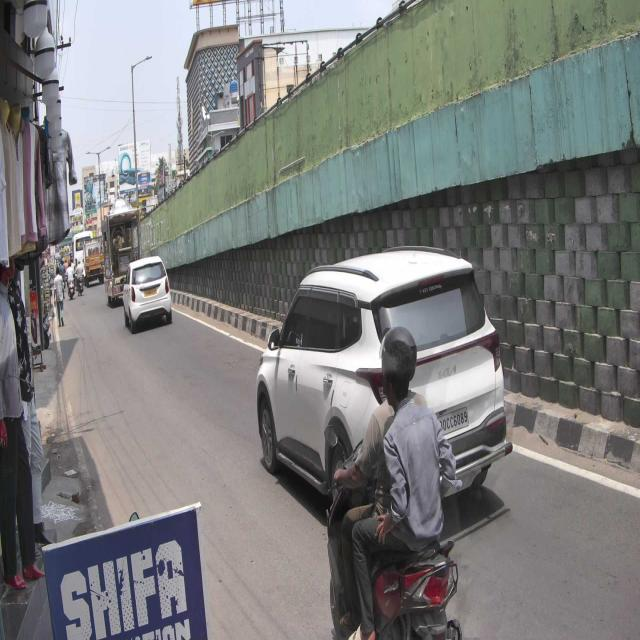double_rider: (324, 324, 466, 640)
